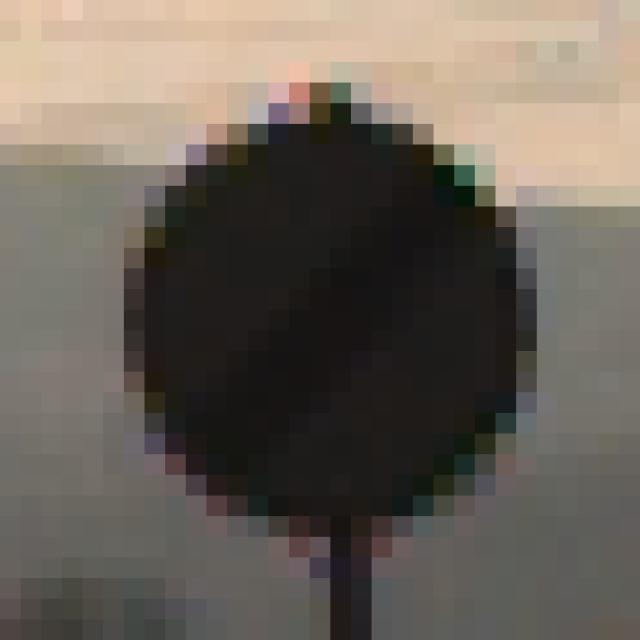restriction ends: (116, 77, 527, 565)
